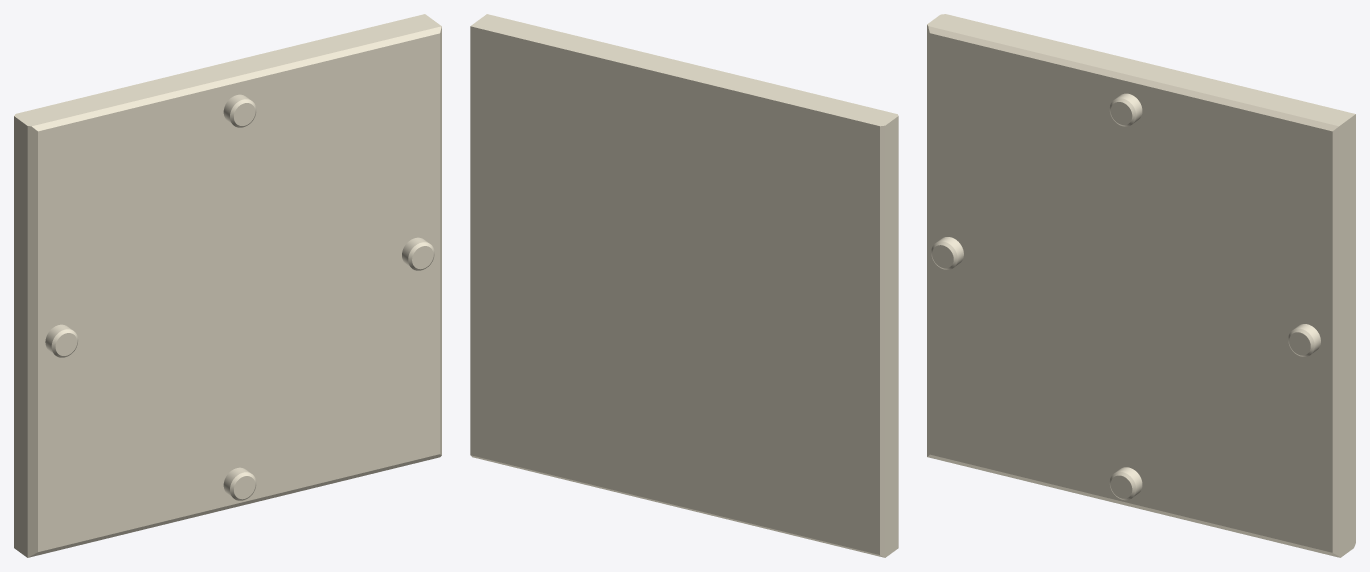
Rendered from section-gradient-sw-ivory@ivory.glb.
3 renders of one model, left to right at view 1: azimuth 30°, elevation 25°; view 2: azimuth 150°, elevation 25°; view 3: azimuth 330°, elevation 25°, orthographic.
Parts seen in each view (by area): view 1: geometry_0; view 2: geometry_0; view 3: geometry_0.
Part boxes in pixels (bbox=[...]): geometry_0: bbox=[14, 14, 441, 557]; geometry_0: bbox=[470, 14, 898, 557]; geometry_0: bbox=[927, 14, 1355, 557].
Size of the model in its own units: 49.8 by 49.8 by 5.6.
